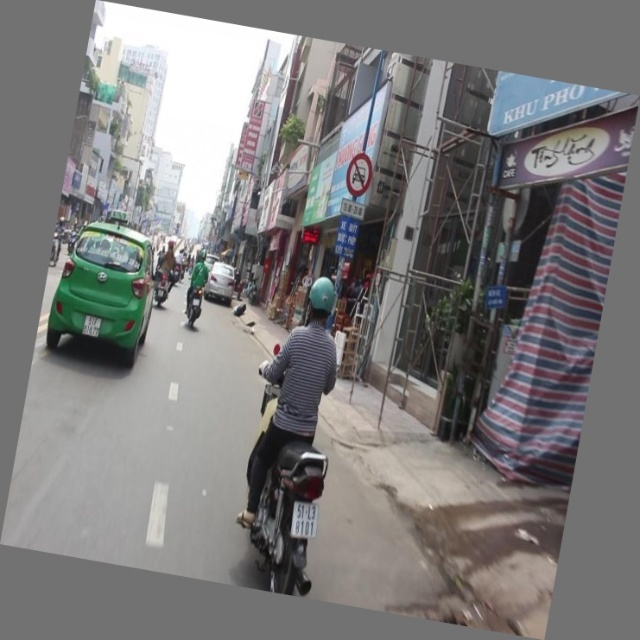P.103a: (342, 148, 378, 202)
